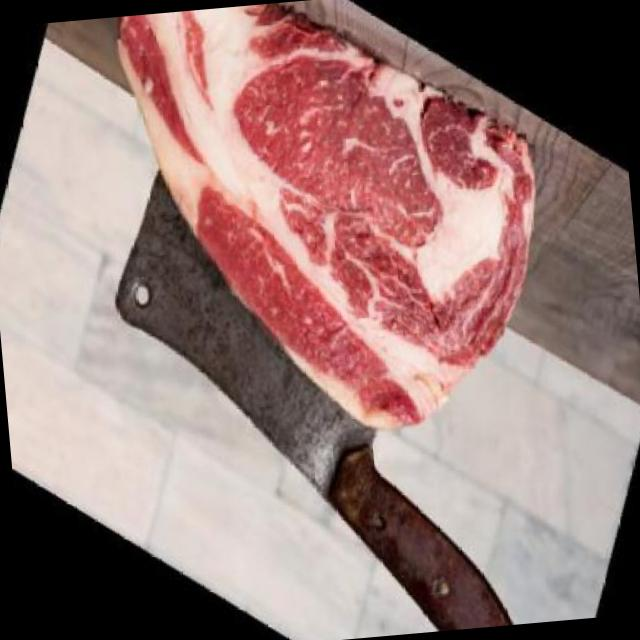beef: (103, 0, 562, 445)
